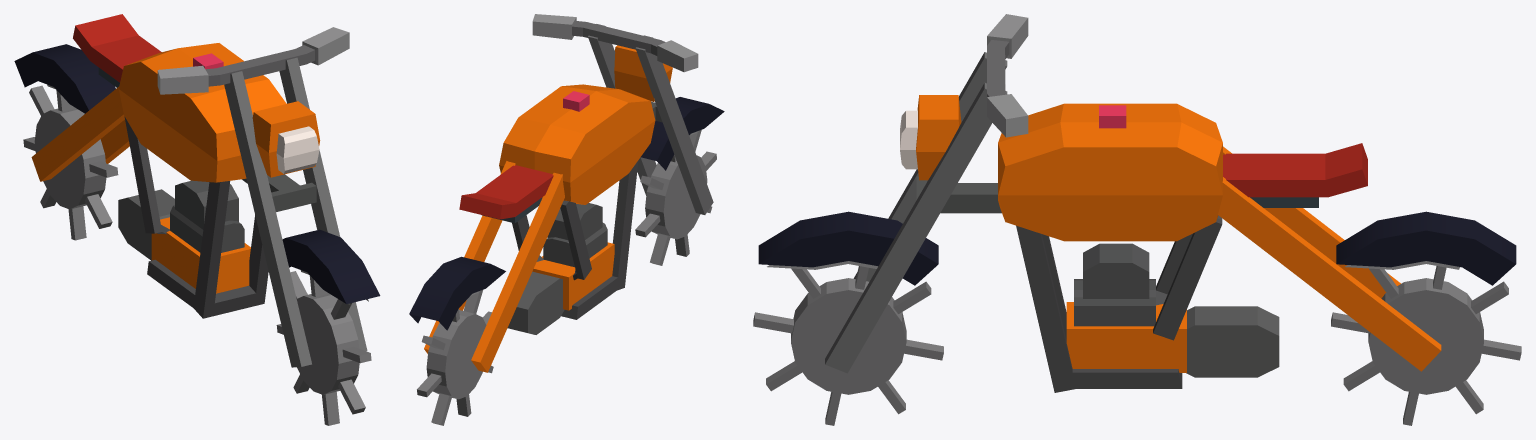
The model's file is body.glb.
3 views of the same model, side by side, from view 1: azimuth 30°, elevation 25°; view 2: azimuth 150°, elevation 25°; view 3: azimuth 270°, elevation 25° (orthographic). The views are drawn at different scales.
Visible parts, largest first — view 1: Chasis.016_Texture_0; view 2: Chasis.016_Texture_0; view 3: Chasis.016_Texture_0.
Part boxes in pixels (x1,y1,x2,y2): Chasis.016_Texture_0: (14,14,380,425); Chasis.016_Texture_0: (409,14,724,425); Chasis.016_Texture_0: (753,14,1521,425).
Bounding box in the file's own units: 4.33 × 6.84 × 13.35.
Materials: 1 (1 with a texture image).
